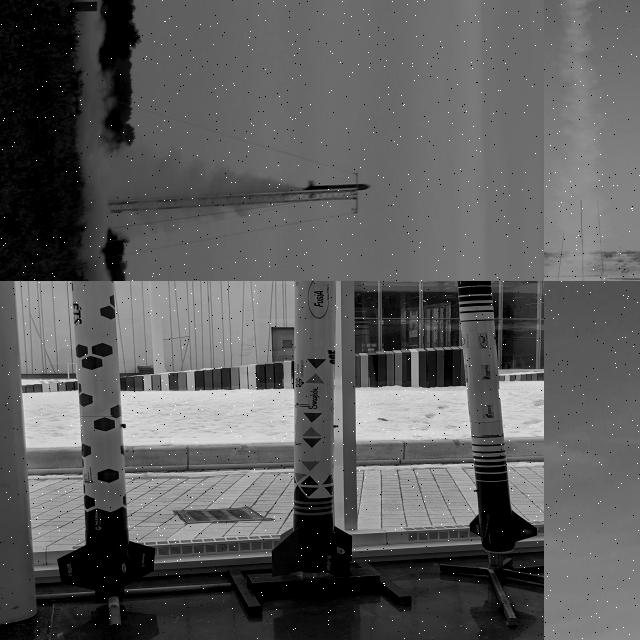Rocket: (58, 281, 156, 597), (271, 281, 353, 579), (457, 281, 537, 554), (305, 180, 372, 199)
